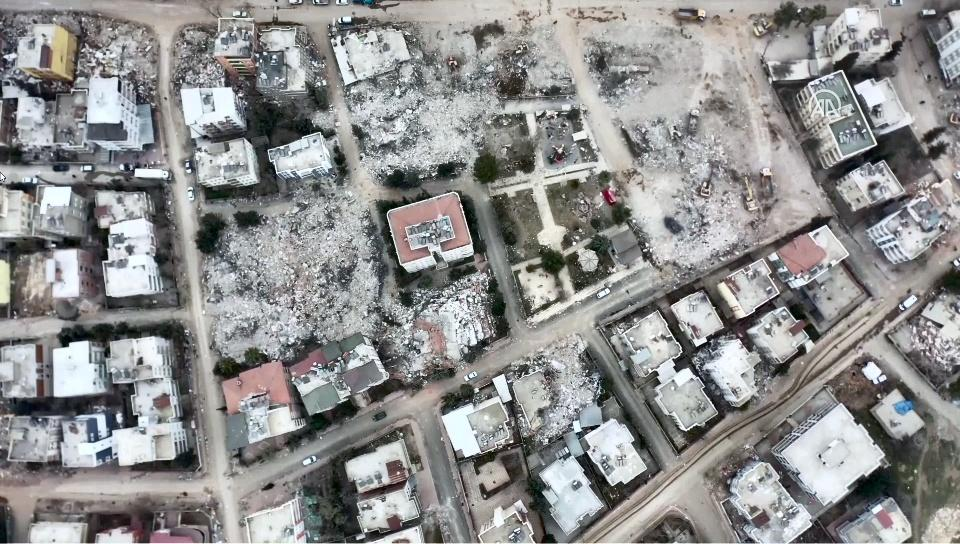kapali: (348, 180, 433, 393), (631, 207, 790, 303)
